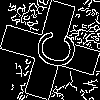C: (25, 25, 79, 72)
